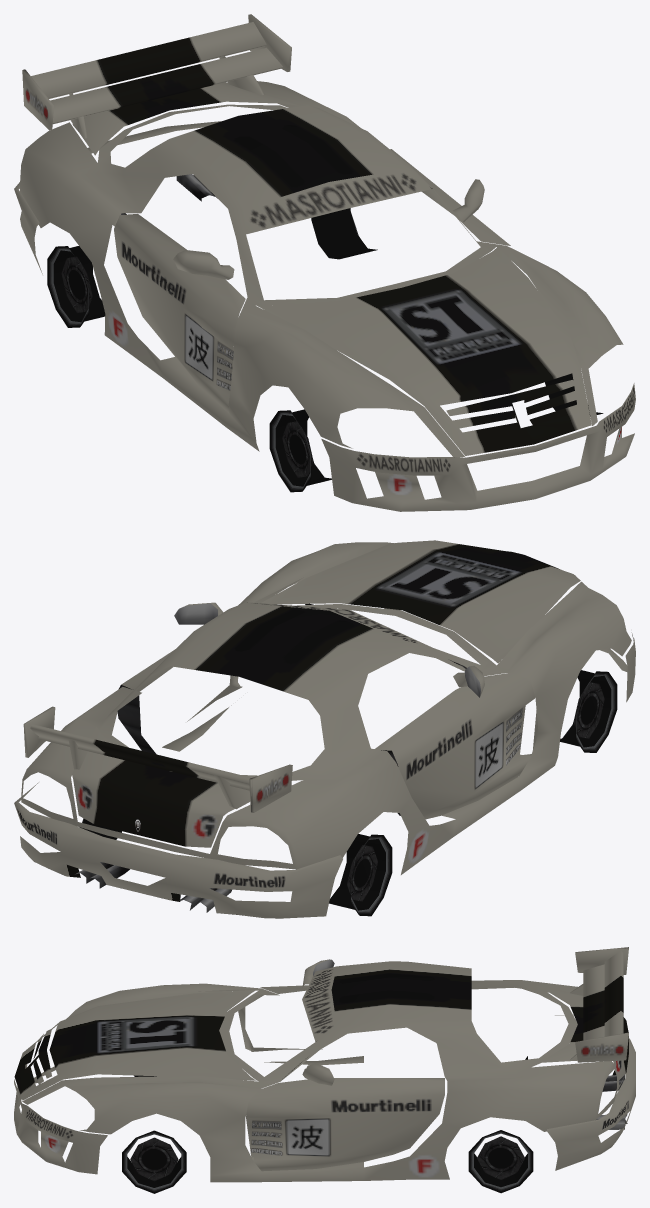
Rendered from car-MSCL_Car9.glb.
The picture shows the model from 3 angles, top to bottom: view 1: azimuth 30°, elevation 25°; view 2: azimuth 150°, elevation 25°; view 3: azimuth 270°, elevation 25°; orthographic projection. The views are drawn at different scales.
Parts seen in each view (by area): view 1: MSCL_Car9; view 2: MSCL_Car9; view 3: MSCL_Car9.
Part boxes in pixels (left/top/right/bottom): MSCL_Car9: left=14, top=14, right=635, bottom=511; MSCL_Car9: left=14, top=540, right=635, bottom=918; MSCL_Car9: left=14, top=947, right=635, bottom=1193.
Size of the model in its own units: 1.9 by 1.15 by 4.23.
19 materials, 19 textured.
